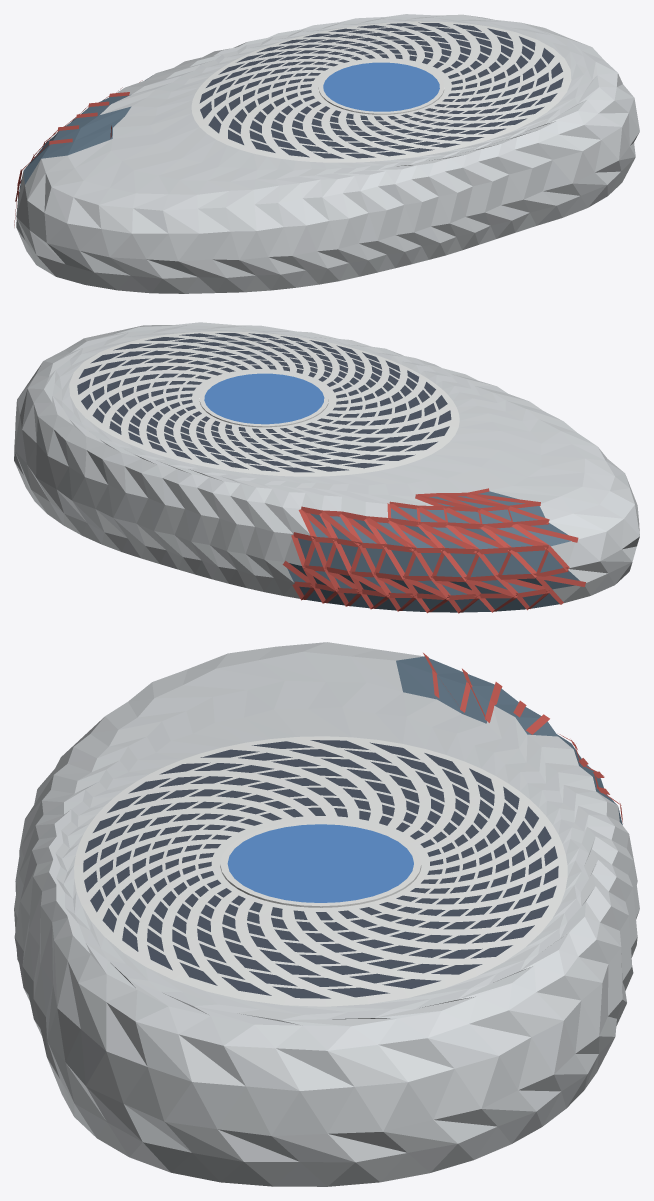
Rendered from la-intuit-dome.glb.
3 views of the same model, one above another, from view 1: azimuth 30°, elevation 25°; view 2: azimuth 150°, elevation 25°; view 3: azimuth 270°, elevation 25° (orthographic). The views are drawn at different scales.
Visible parts, largest first — view 1: Intuit Dome; view 2: Intuit Dome; view 3: Intuit Dome.
Part boxes in pixels (x1=…): Intuit Dome: x1=14, y1=14, x2=639, y2=293; Intuit Dome: x1=14, y1=322, x2=639, y2=613; Intuit Dome: x1=14, y1=642, x2=639, y2=1186.
Size of the model in its own units: 234 by 36.9 by 137.
